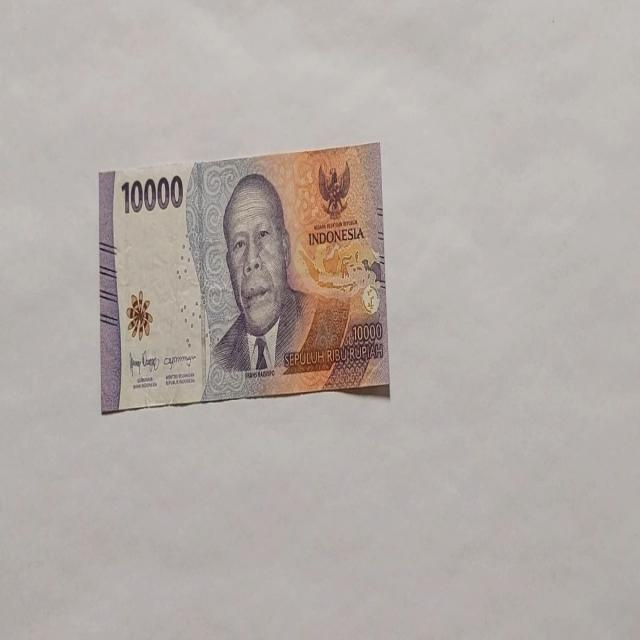sepuluh ribu rupiah: (97, 140, 390, 414), (200, 171, 312, 400)
